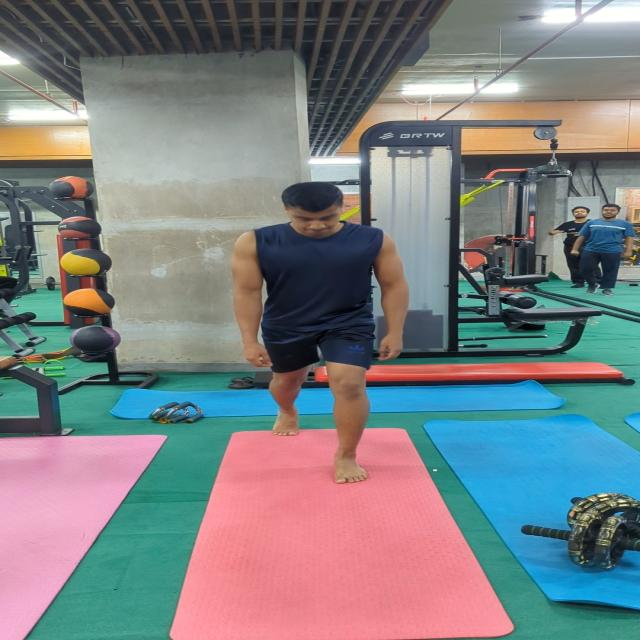Normal_Lunges: (226, 180, 410, 487)
